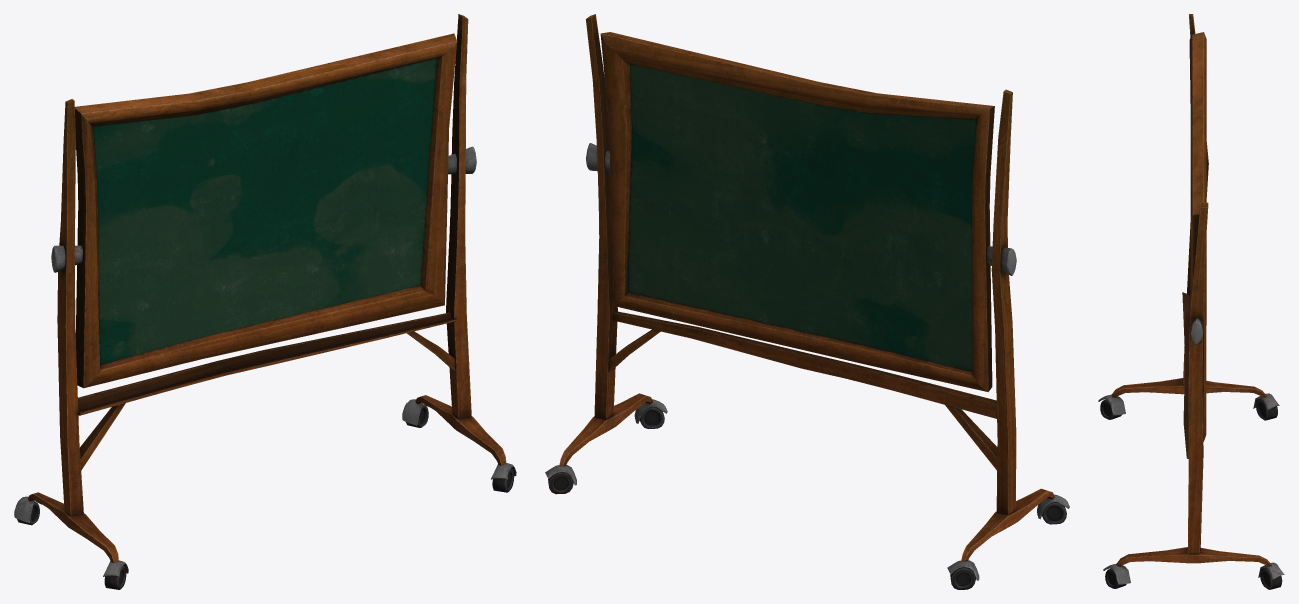
File: PinBoard.glb
3 renders of one model, left to right at view 1: azimuth 30°, elevation 25°; view 2: azimuth 150°, elevation 25°; view 3: azimuth 270°, elevation 25°, orthographic. The views are drawn at different scales.
Visible parts, largest first — view 1: SM_Pinboard; view 2: SM_Pinboard; view 3: SM_Pinboard.
Boxes of the visible parts, x1,y1,x2,y2 form: SM_Pinboard: (14, 14, 516, 589); SM_Pinboard: (545, 14, 1069, 589); SM_Pinboard: (1098, 14, 1284, 589).
Bounding box in the file's own units: 2.27 × 2.33 × 0.9777.
Materials: 1 (1 with a texture image).
